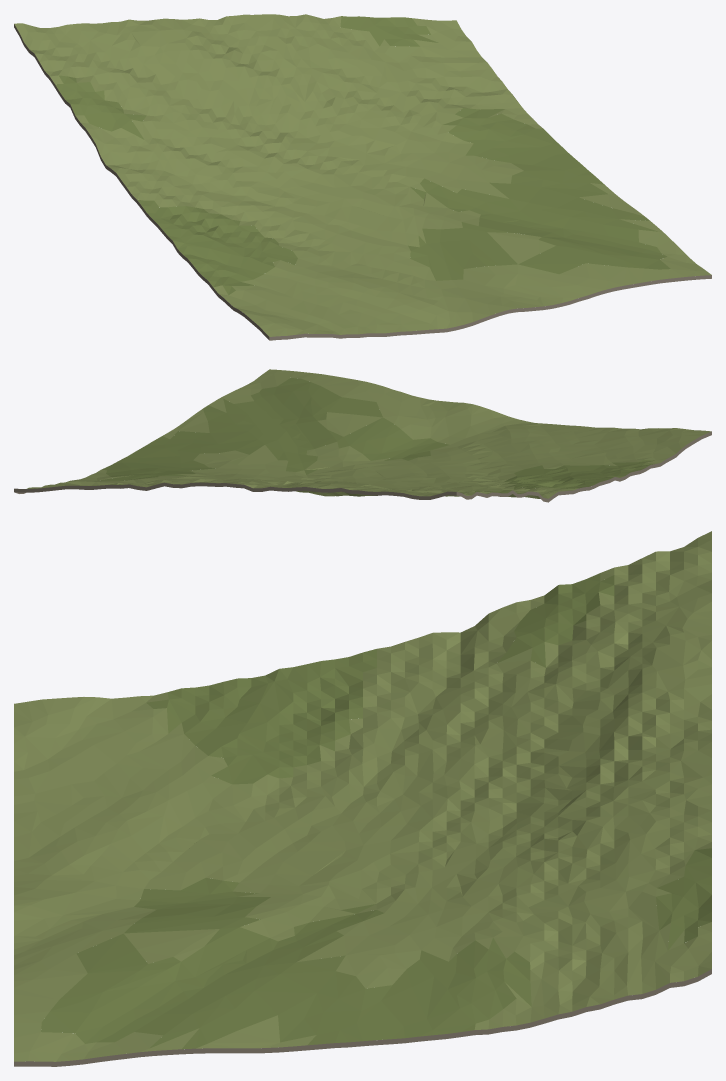
File: parca_+9_-6-uzak.glb
The picture shows the model from 3 angles, top to bottom: view 1: azimuth 30°, elevation 25°; view 2: azimuth 150°, elevation 25°; view 3: azimuth 270°, elevation 25°; orthographic projection. The views are drawn at different scales.
Parts seen in each view (by area): view 1: parca_+9_-6_arazi_uzak; view 2: parca_+9_-6_arazi_uzak; view 3: parca_+9_-6_arazi_uzak.
Part boxes in pixels (x1,y1,x2,y2): parca_+9_-6_arazi_uzak: (14, 14, 711, 340); parca_+9_-6_arazi_uzak: (14, 369, 711, 502); parca_+9_-6_arazi_uzak: (14, 531, 711, 1066).
Size of the model in its own units: 1000 by 381 by 1000.
